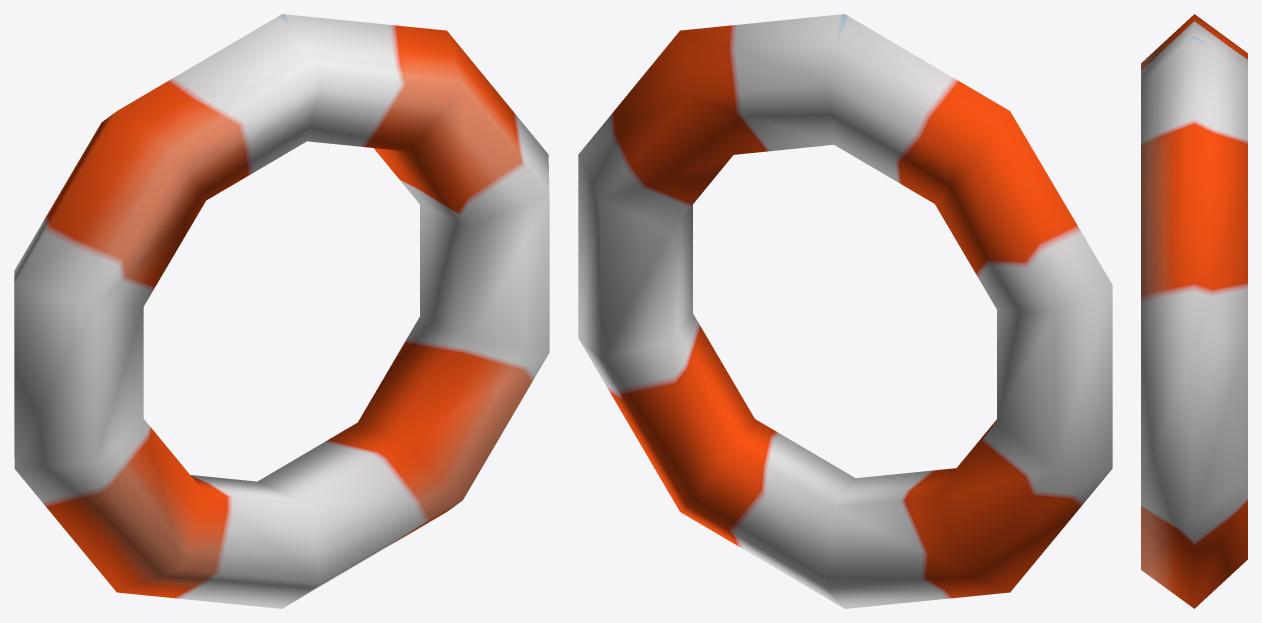
File: Ceshichangji_YouYongQuan_01.FBX
3 views of the same model, side by side, from view 1: azimuth 30°, elevation 25°; view 2: azimuth 150°, elevation 25°; view 3: azimuth 270°, elevation 25° (orthographic). The views are drawn at different scales.
Visible parts, largest first — view 1: Object008; view 2: Object008; view 3: Object008.
Boxes of the visible parts, x1,y1,x2,y2 form: Object008: (14, 14, 549, 608); Object008: (578, 14, 1112, 608); Object008: (1141, 14, 1247, 608).
Bounding box in the file's own units: 400 × 426 × 74.94.
